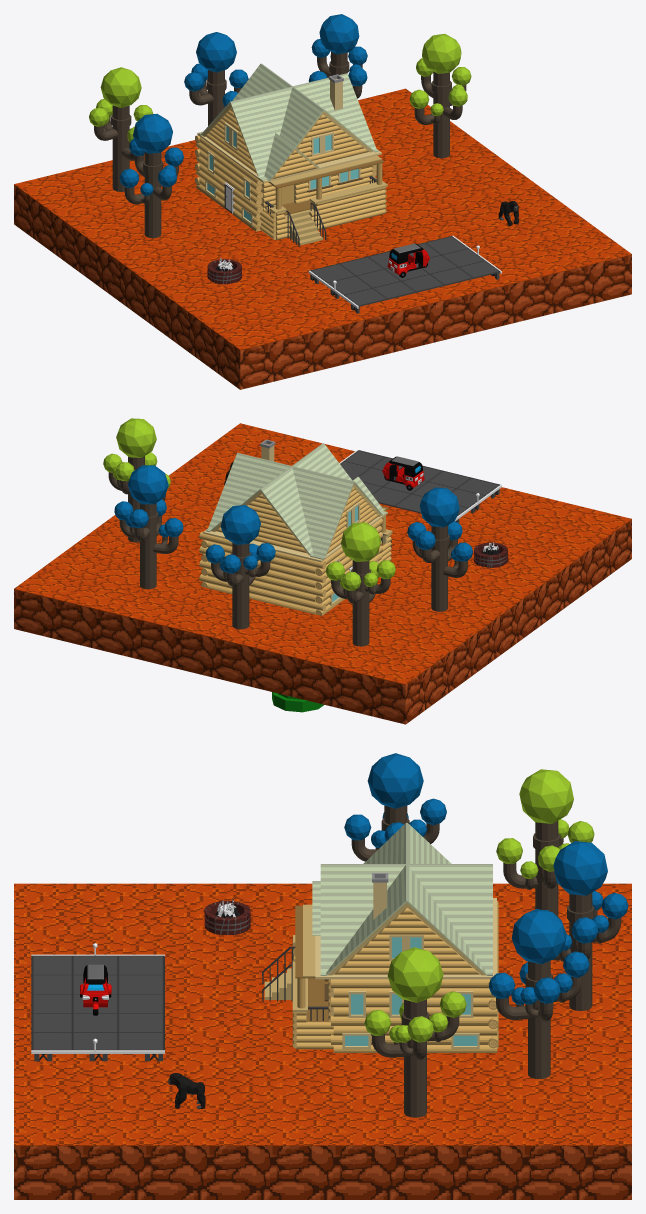
3 views of the same model, one above another, from view 1: azimuth 30°, elevation 25°; view 2: azimuth 150°, elevation 25°; view 3: azimuth 270°, elevation 25° (orthographic). The views are drawn at different scales.
Parts seen in each view (by area): view 1: Cube.001, Cube.1516, VEHICLES_TUC_TUC, OBJRANDOM_CAMPFIRE; view 2: Cube.001, Cube.1516, VEHICLES_TUC_TUC, OBJRANDOM_CAMPFIRE, UNDERGROUND_PIPES; view 3: Cube.001, Cube.1516, OBJRANDOM_CAMPFIRE, VEHICLES_TUC_TUC, ANIMAL_GORILA.
Boxes of the visible parts, left/top/right/bottom form: Cube.001: left=14, top=14, right=631, bottom=389; Cube.1516: left=195, top=63, right=387, bottom=246; VEHICLES_TUC_TUC: left=387, top=243, right=429, bottom=277; OBJRANDOM_CAMPFIRE: left=207, top=257, right=241, bottom=284; Cube.001: left=14, top=418, right=631, bottom=724; Cube.1516: left=199, top=439, right=392, bottom=615; VEHICLES_TUC_TUC: left=382, top=456, right=424, bottom=490; OBJRANDOM_CAMPFIRE: left=473, top=541, right=508, bottom=567; UNDERGROUND_PIPES: left=272, top=692, right=324, bottom=712; Cube.001: left=14, top=753, right=631, bottom=1199; Cube.1516: left=262, top=823, right=498, bottom=1052; OBJRANDOM_CAMPFIRE: left=204, top=896, right=250, bottom=934; VEHICLES_TUC_TUC: left=80, top=964, right=111, bottom=1015; ANIMAL_GORILA: left=168, top=1073, right=205, bottom=1109.
Bounding box in the file's own units: 4000 × 2247 × 4000.
37 materials, 5 textured.
